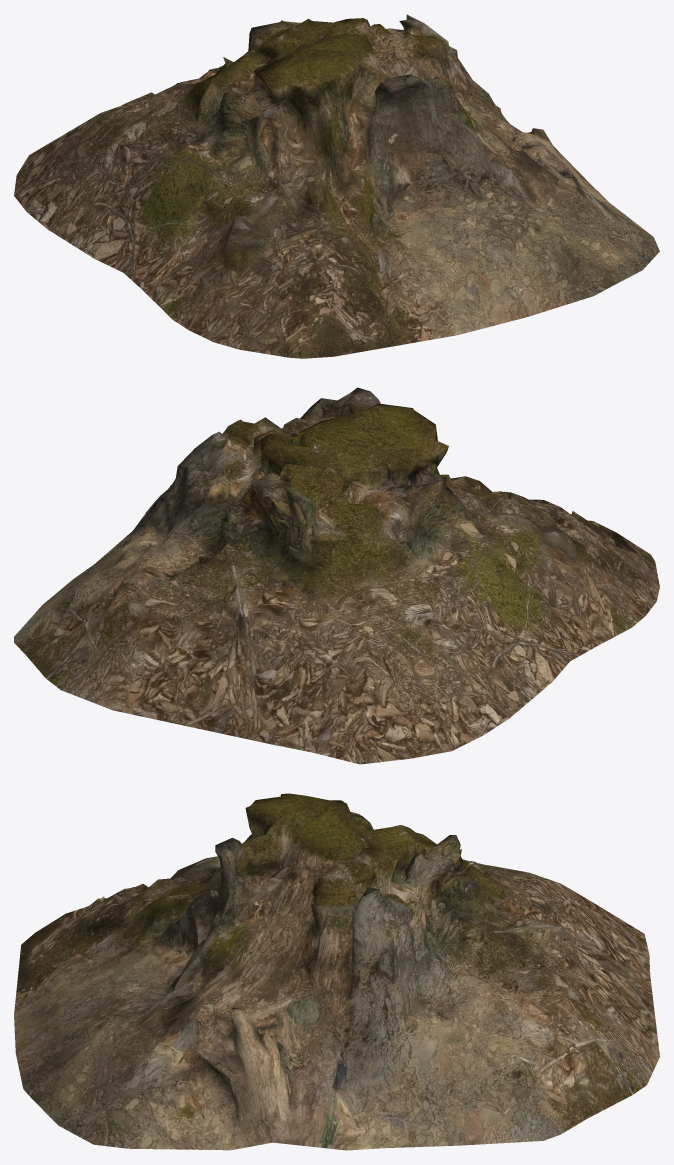
The model's file is stump_mossy_a.glb.
3 renders of one model, top to bottom at view 1: azimuth 30°, elevation 25°; view 2: azimuth 150°, elevation 25°; view 3: azimuth 270°, elevation 25°, orthographic. The views are drawn at different scales.
Parts seen in each view (by area): view 1: tree_stump_01; view 2: tree_stump_01; view 3: tree_stump_01.
Part boxes in pixels (left/top/right/bottom): tree_stump_01: left=14, top=14, right=659, bottom=358; tree_stump_01: left=14, top=387, right=659, bottom=764; tree_stump_01: left=14, top=793, right=659, bottom=1150.
Bounding box in the file's own units: 1.43 × 0.5702 × 1.59.
1 material, 1 textured.
